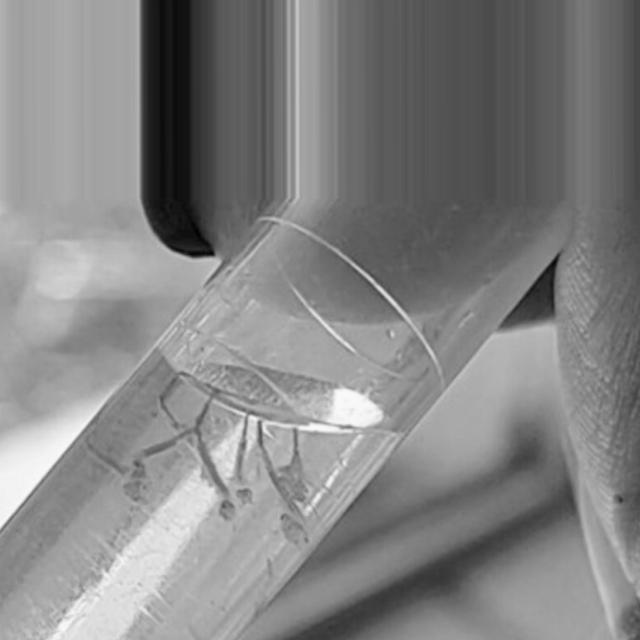larvas: (87, 434, 138, 500), (196, 433, 232, 526), (136, 427, 185, 467), (160, 367, 193, 422), (258, 429, 282, 504), (236, 416, 250, 499), (278, 509, 306, 547), (290, 427, 304, 501)
